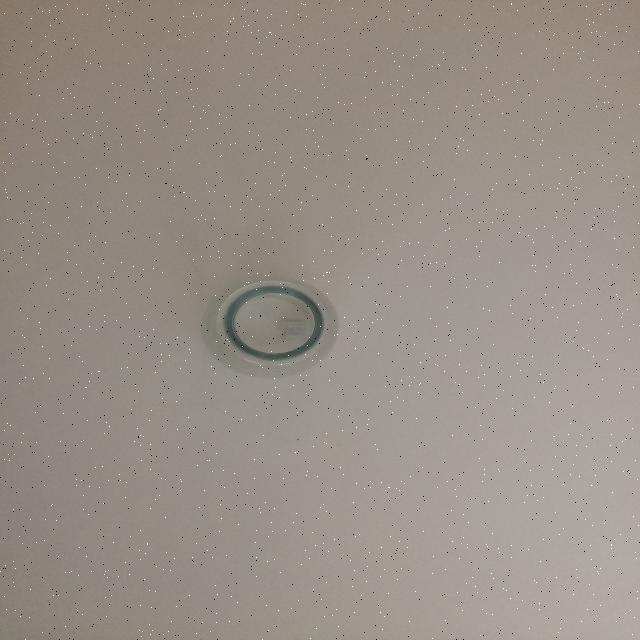glass: (204, 274, 344, 376)
